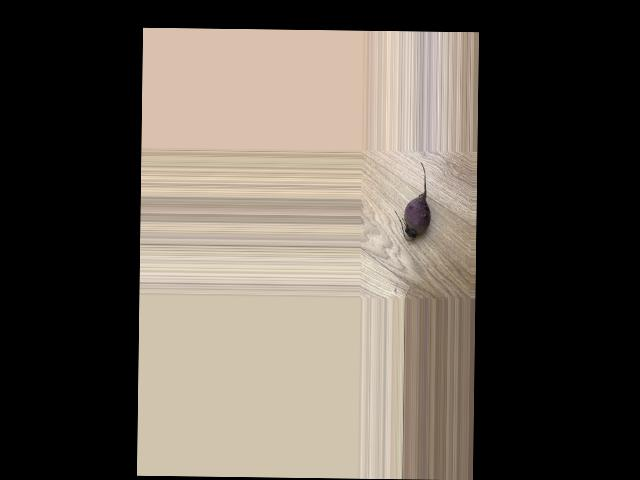beet: (394, 161, 431, 241)
